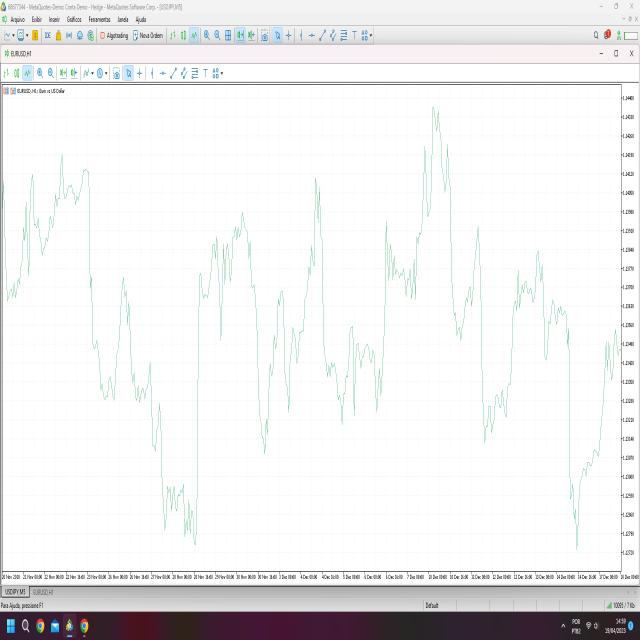bandeira_alta: (375, 217, 414, 381)
fundo_duplo: (156, 376, 207, 557)
oco: (370, 87, 491, 462)
